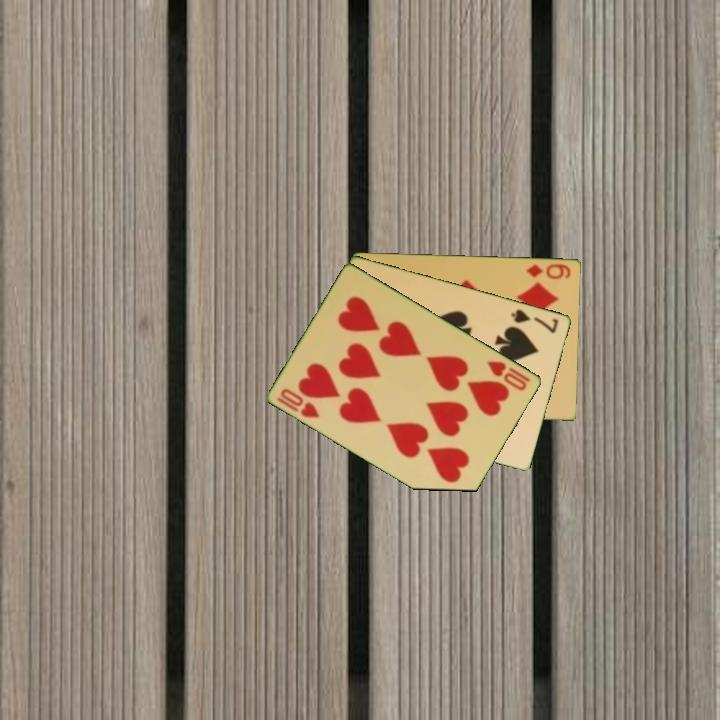10h: (483, 357, 533, 394), (274, 384, 323, 421)
6d: (523, 260, 574, 281)
7s: (508, 305, 561, 336)
